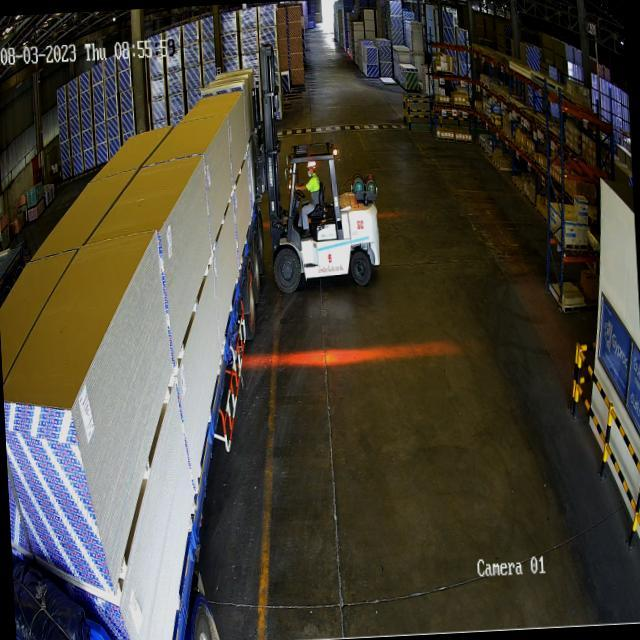driver: (294, 156, 332, 246)
forklift: (261, 132, 384, 298)
